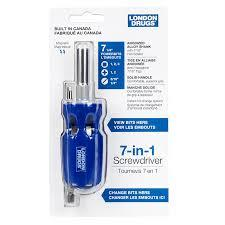screwdriver: (60, 40, 106, 195)
